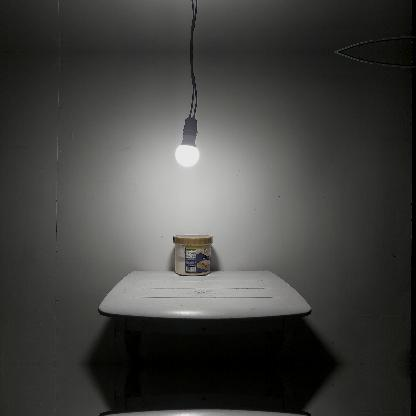Lady-s-Choice: (172, 233, 214, 275)
